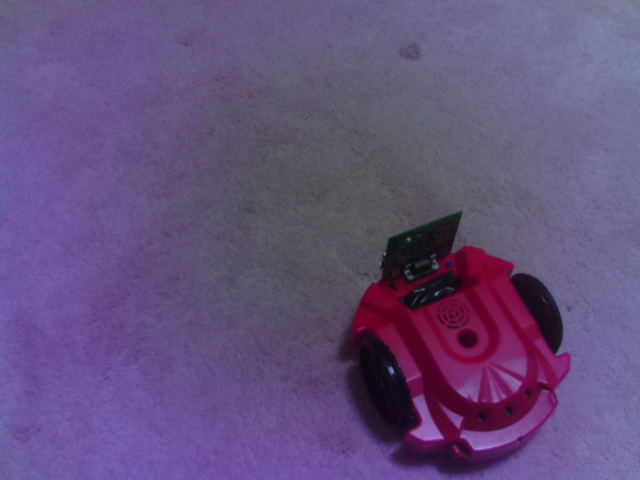chassis: (348, 209, 573, 466)
